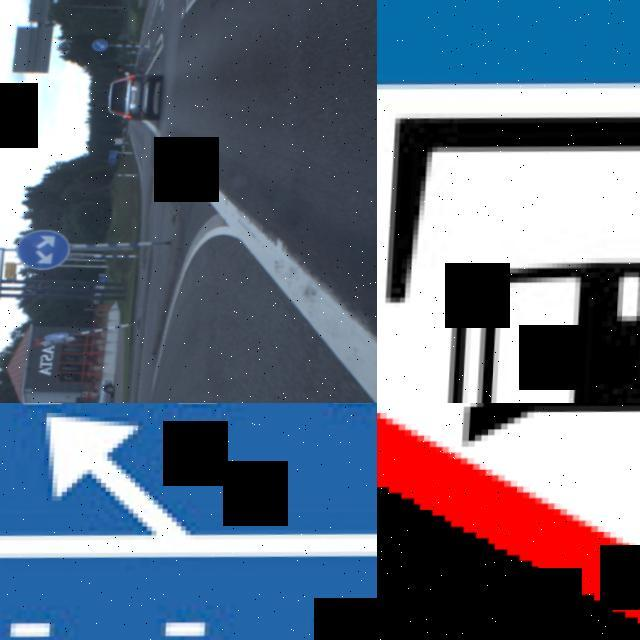65: (0, 403, 377, 640)
93: (15, 228, 76, 276), (90, 39, 110, 52)
Bus stop: (377, 0, 640, 403)
Narrow bridge: (377, 403, 640, 640)
